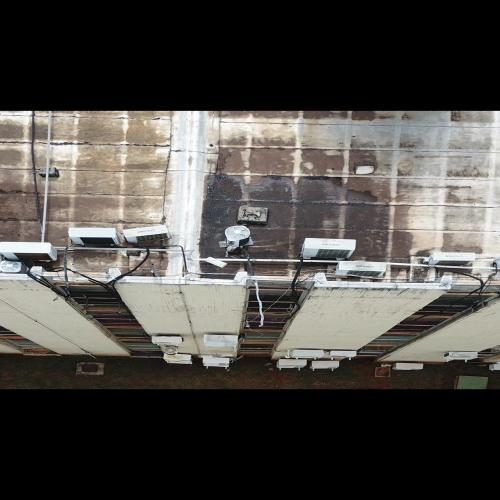conde: (299, 237, 361, 261), (1, 241, 61, 265), (123, 224, 182, 247), (65, 226, 123, 249), (334, 260, 392, 281), (423, 253, 479, 270), (224, 225, 253, 250)
